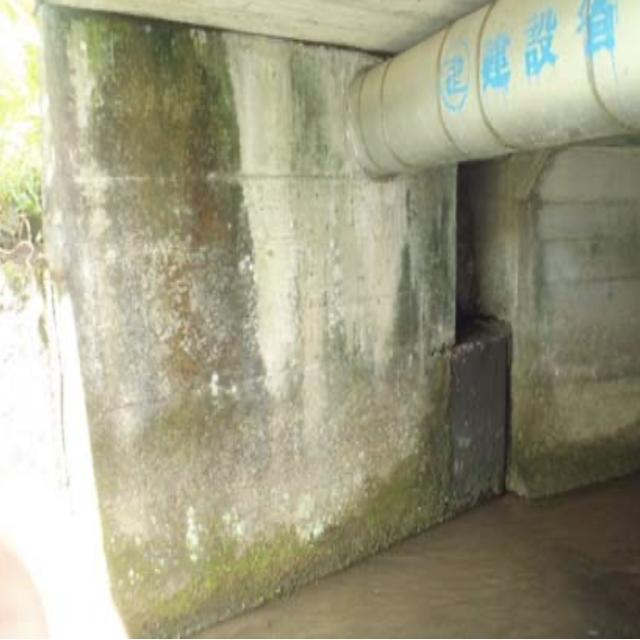freelime: (70, 4, 284, 566)
